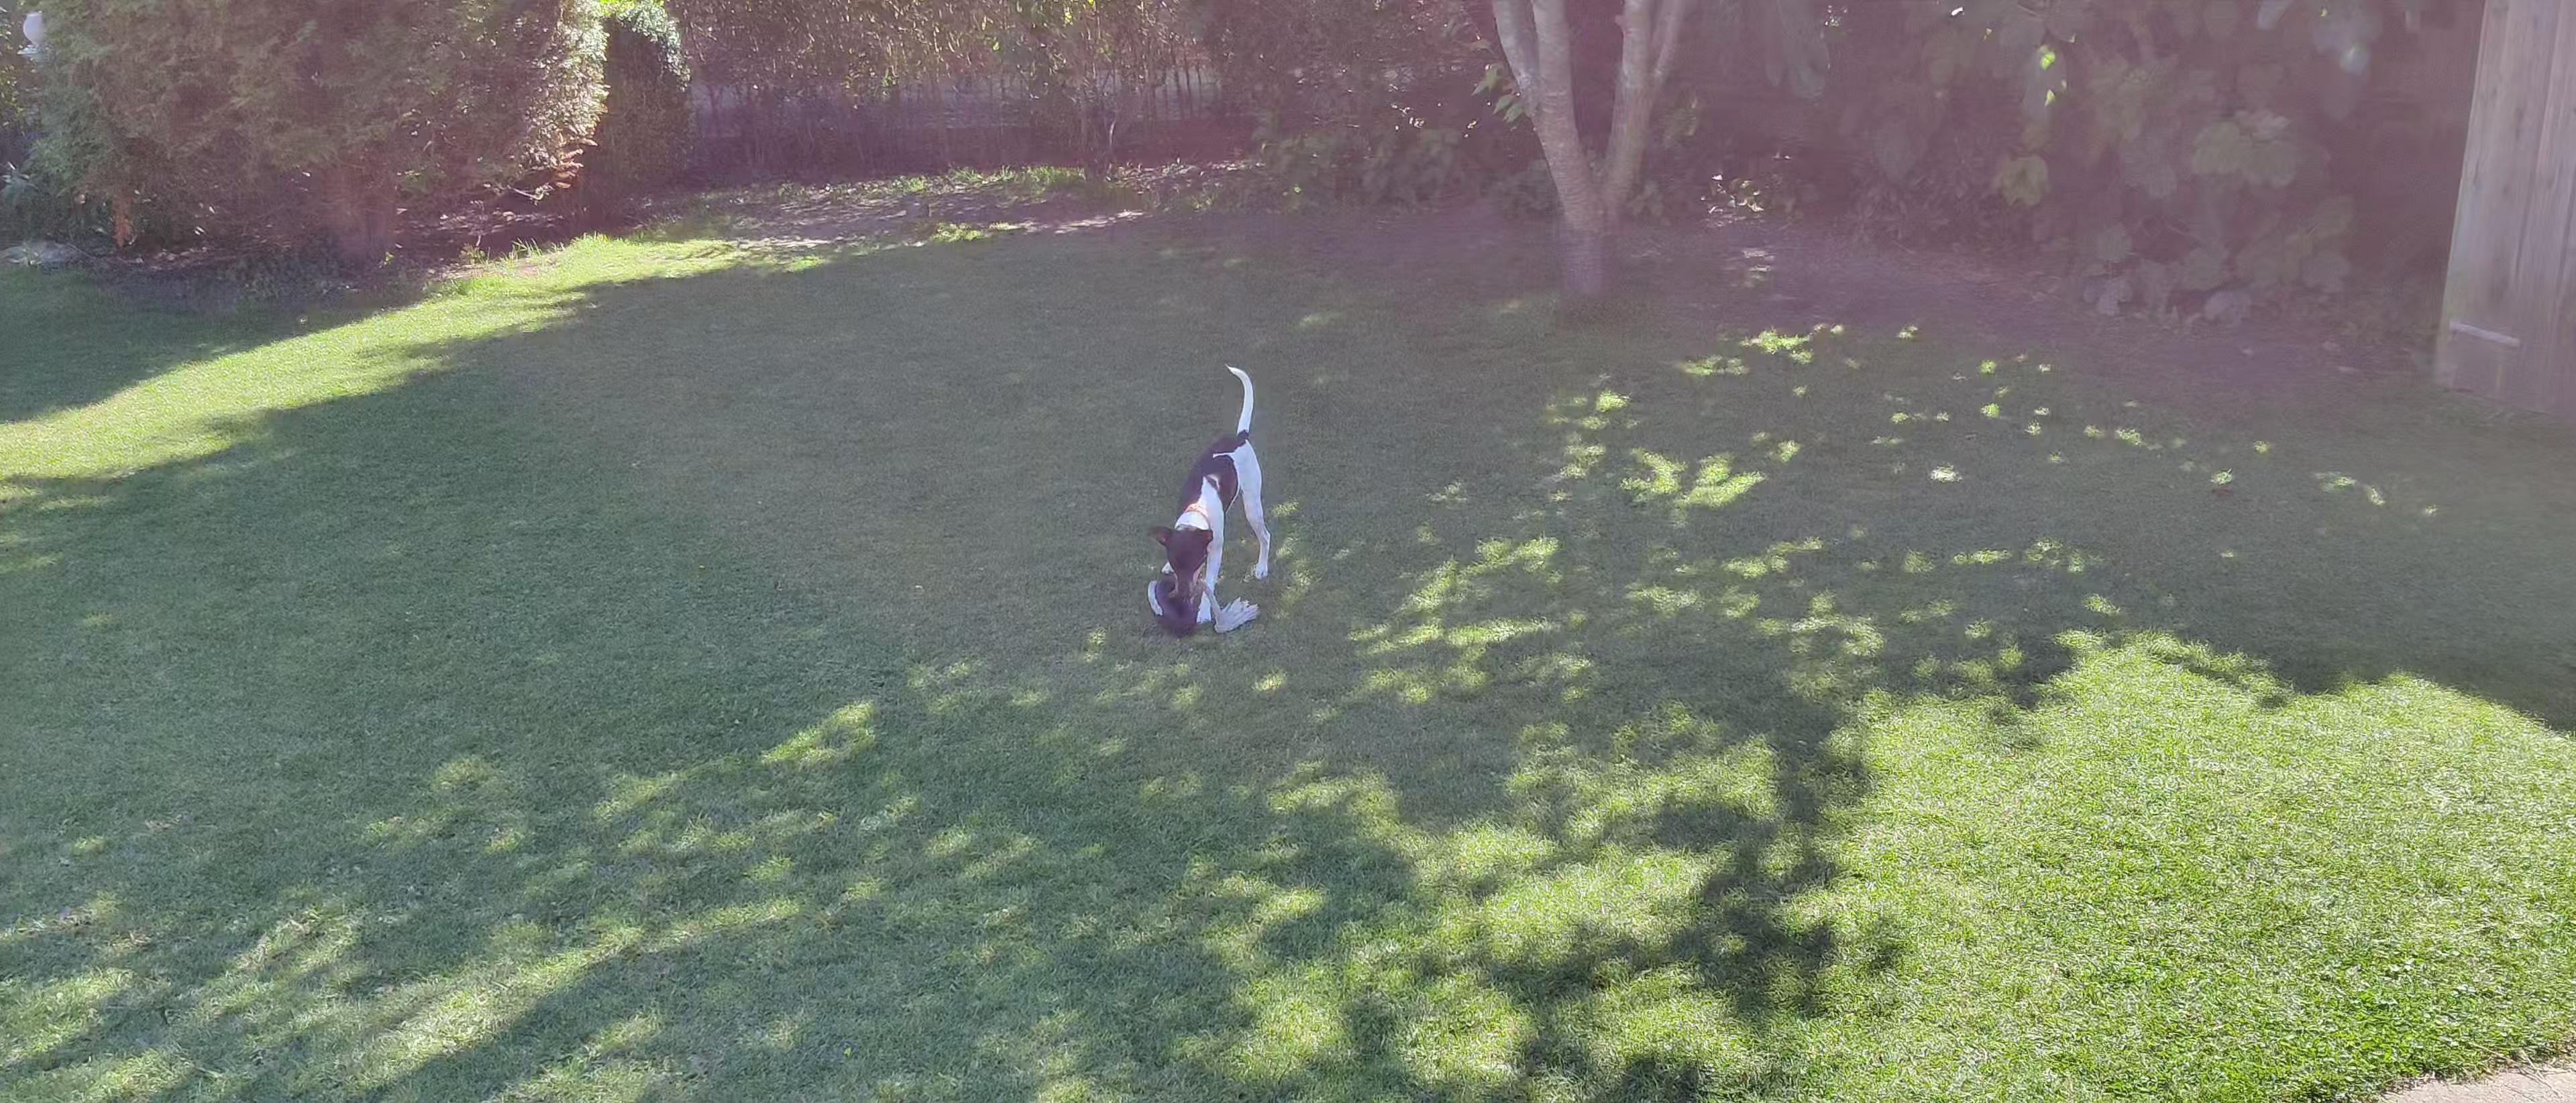Dog: (1143, 358, 1273, 626)
